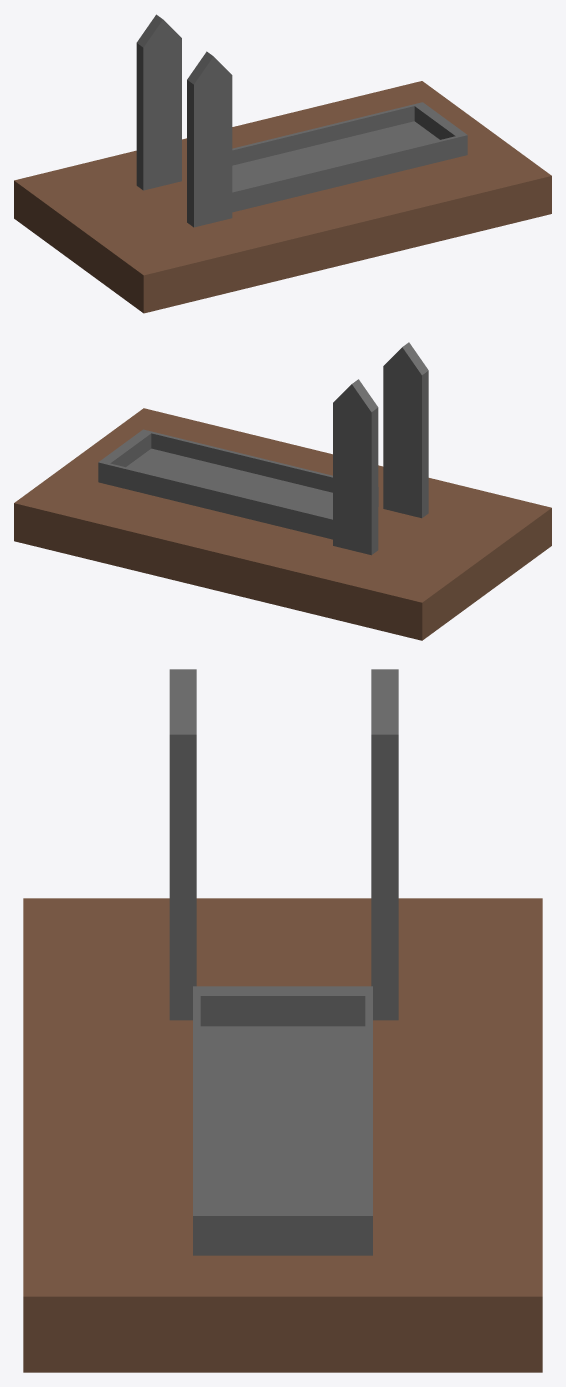
Rendered from dodai.fbx.
3 renders of one model, top to bottom at view 1: azimuth 30°, elevation 25°; view 2: azimuth 150°, elevation 25°; view 3: azimuth 270°, elevation 25°, orthographic. The views are drawn at different scales.
Parts seen in each view (by area): view 1: Cube, Cube.001, Cube.003, Cube.002; view 2: Cube, Cube.001, Cube.003, Cube.002; view 3: Cube, Cube.001, Cube.003, Cube.002.
Boxes of the visible parts, left/top/right/bottom form: Cube: left=14, top=81, right=551, bottom=313; Cube.001: left=232, top=102, right=467, bottom=212; Cube.003: left=136, top=14, right=181, bottom=190; Cube.002: left=187, top=51, right=232, bottom=227; Cube: left=14, top=408, right=551, bottom=640; Cube.001: left=98, top=429, right=378, bottom=539; Cube.003: left=333, top=379, right=378, bottom=555; Cube.002: left=383, top=342, right=428, bottom=518; Cube: left=23, top=898, right=542, bottom=1372; Cube.001: left=193, top=986, right=372, bottom=1255; Cube.003: left=371, top=669, right=398, bottom=1020; Cube.002: left=169, top=669, right=196, bottom=1020.
Bounding box in the file's own units: 427 × 204 × 235.
